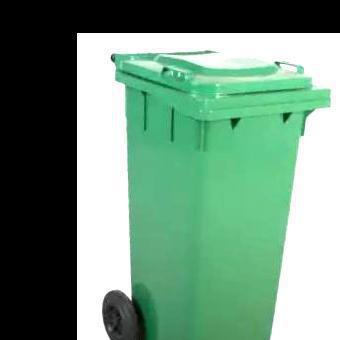Bote de Basura: (100, 41, 326, 340)
